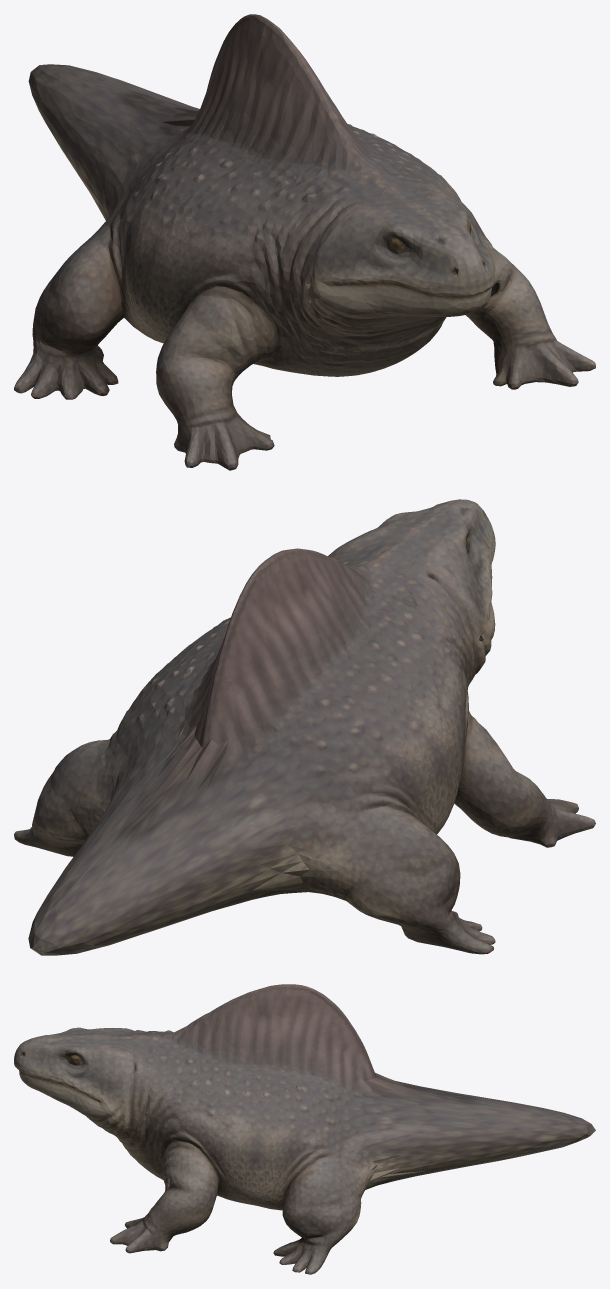
3 renders of one model, top to bottom at view 1: azimuth 30°, elevation 25°; view 2: azimuth 150°, elevation 25°; view 3: azimuth 270°, elevation 25°, orthographic. The views are drawn at different scales.
Parts seen in each view (by area): view 1: world; view 2: world; view 3: world.
Boxes of the visible parts, left/top/right/bottom form: world: left=14, top=14, right=595, bottom=470; world: left=14, top=499, right=595, bottom=955; world: left=14, top=984, right=595, bottom=1274.
Size of the model in its own units: 0.8609 by 0.5618 by 1.38.
Materials: 1 (1 with a texture image).
